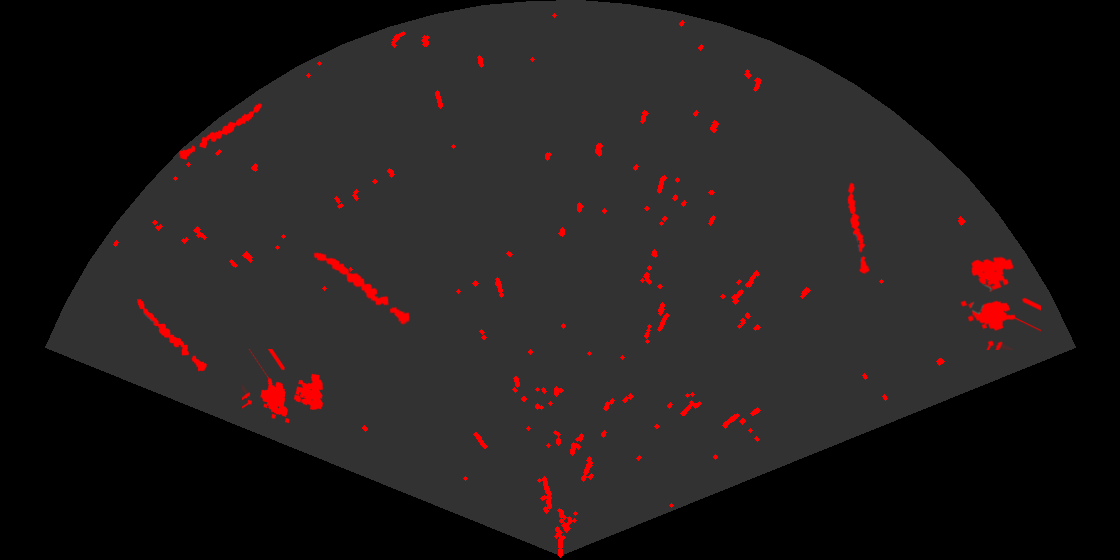cage: (959, 255, 1041, 350), (242, 349, 325, 425)
chain: (312, 251, 411, 326), (135, 297, 209, 373), (177, 102, 264, 161), (846, 181, 871, 276)
